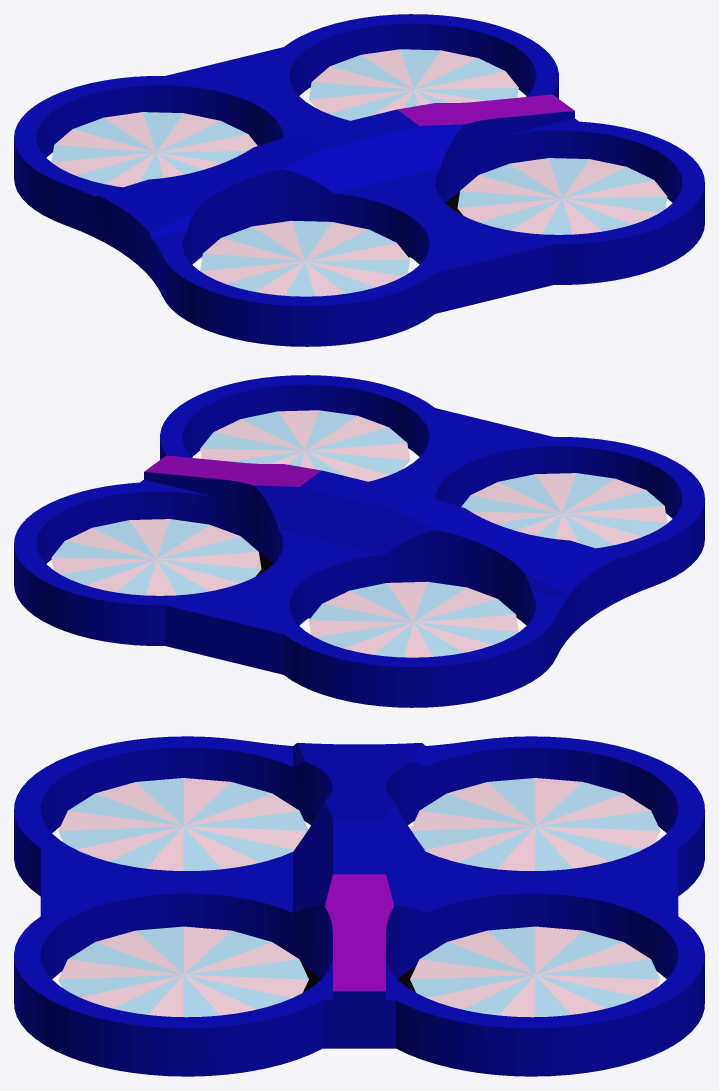
File: quadrotor_4.dae
3 views of the same model, one above another, from view 1: azimuth 30°, elevation 25°; view 2: azimuth 150°, elevation 25°; view 3: azimuth 270°, elevation 25° (orthographic). The views are drawn at different scales.
Parts seen in each view (by area): view 1: Cover; view 2: Cover; view 3: Cover.
Part boxes in pixels (x1=…): Cover: x1=14, y1=14, x2=704, y2=346; Cover: x1=14, y1=375, x2=704, y2=707; Cover: x1=14, y1=736, x2=704, y2=1076.
Bounding box in the file's own units: 0.52 × 0.5199 × 0.11.
